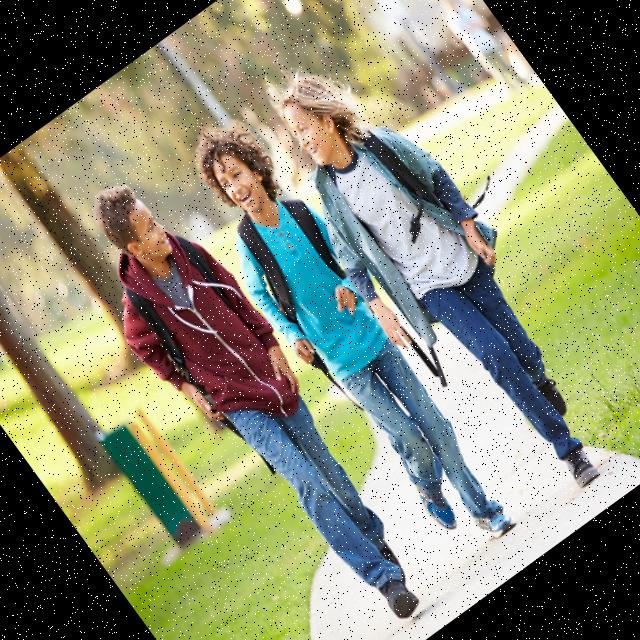Person: (231, 32, 640, 529), (44, 155, 456, 640), (155, 105, 534, 571)
